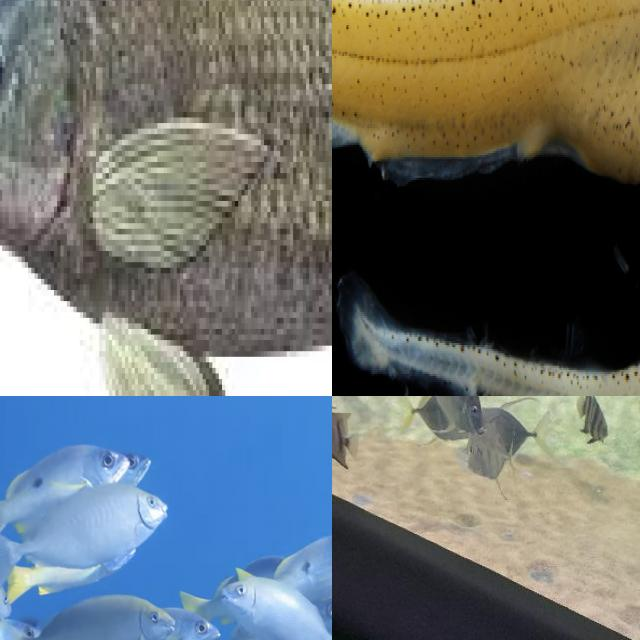fish: (0, 0, 332, 396), (332, 0, 640, 235)
